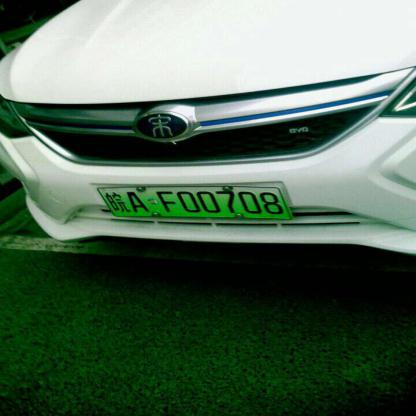lp: (98, 187, 295, 218)
